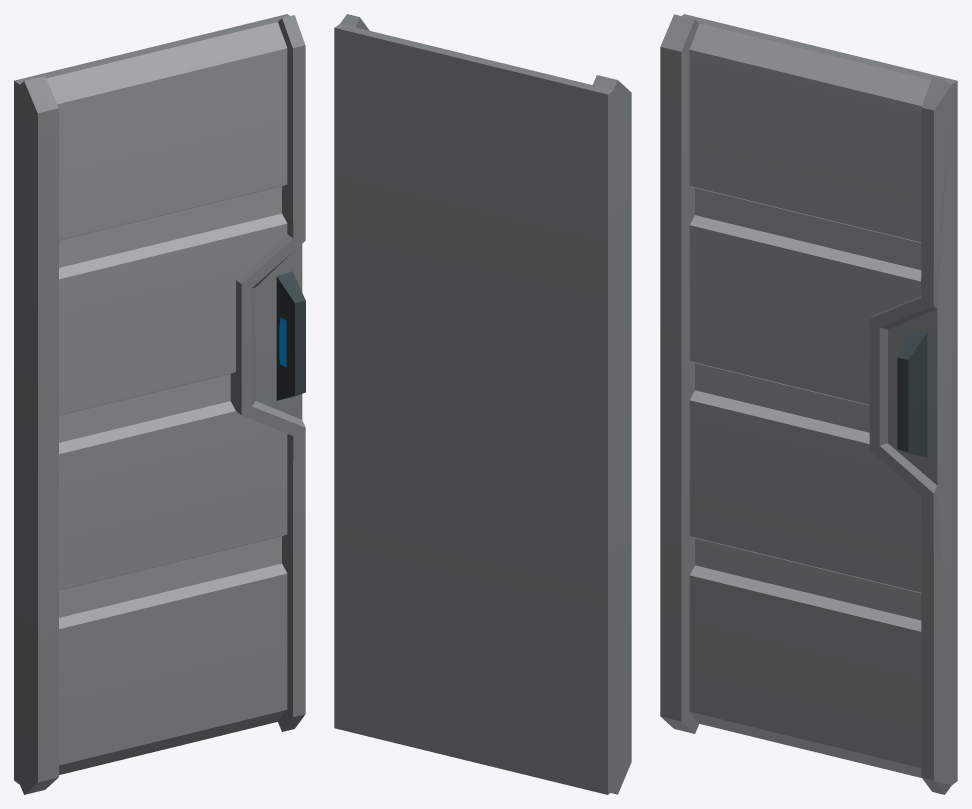
The model's file is Container_type_A_door_013.fbx.
3 renders of one model, left to right at view 1: azimuth 30°, elevation 25°; view 2: azimuth 150°, elevation 25°; view 3: azimuth 330°, elevation 25°, orthographic.
Visible parts, largest first — view 1: Container_type_A_door_013; view 2: Container_type_A_door_013; view 3: Container_type_A_door_013.
Part boxes in pixels (x1,y1,x2,y2): Container_type_A_door_013: (14, 14, 305, 794); Container_type_A_door_013: (334, 14, 631, 794); Container_type_A_door_013: (660, 14, 957, 794).
Bounding box in the file's own units: 81.72 × 17.59 × 204.
